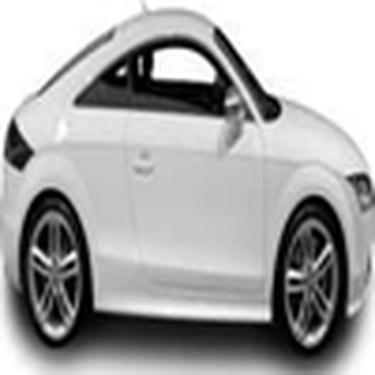car: (1, 4, 373, 343)
